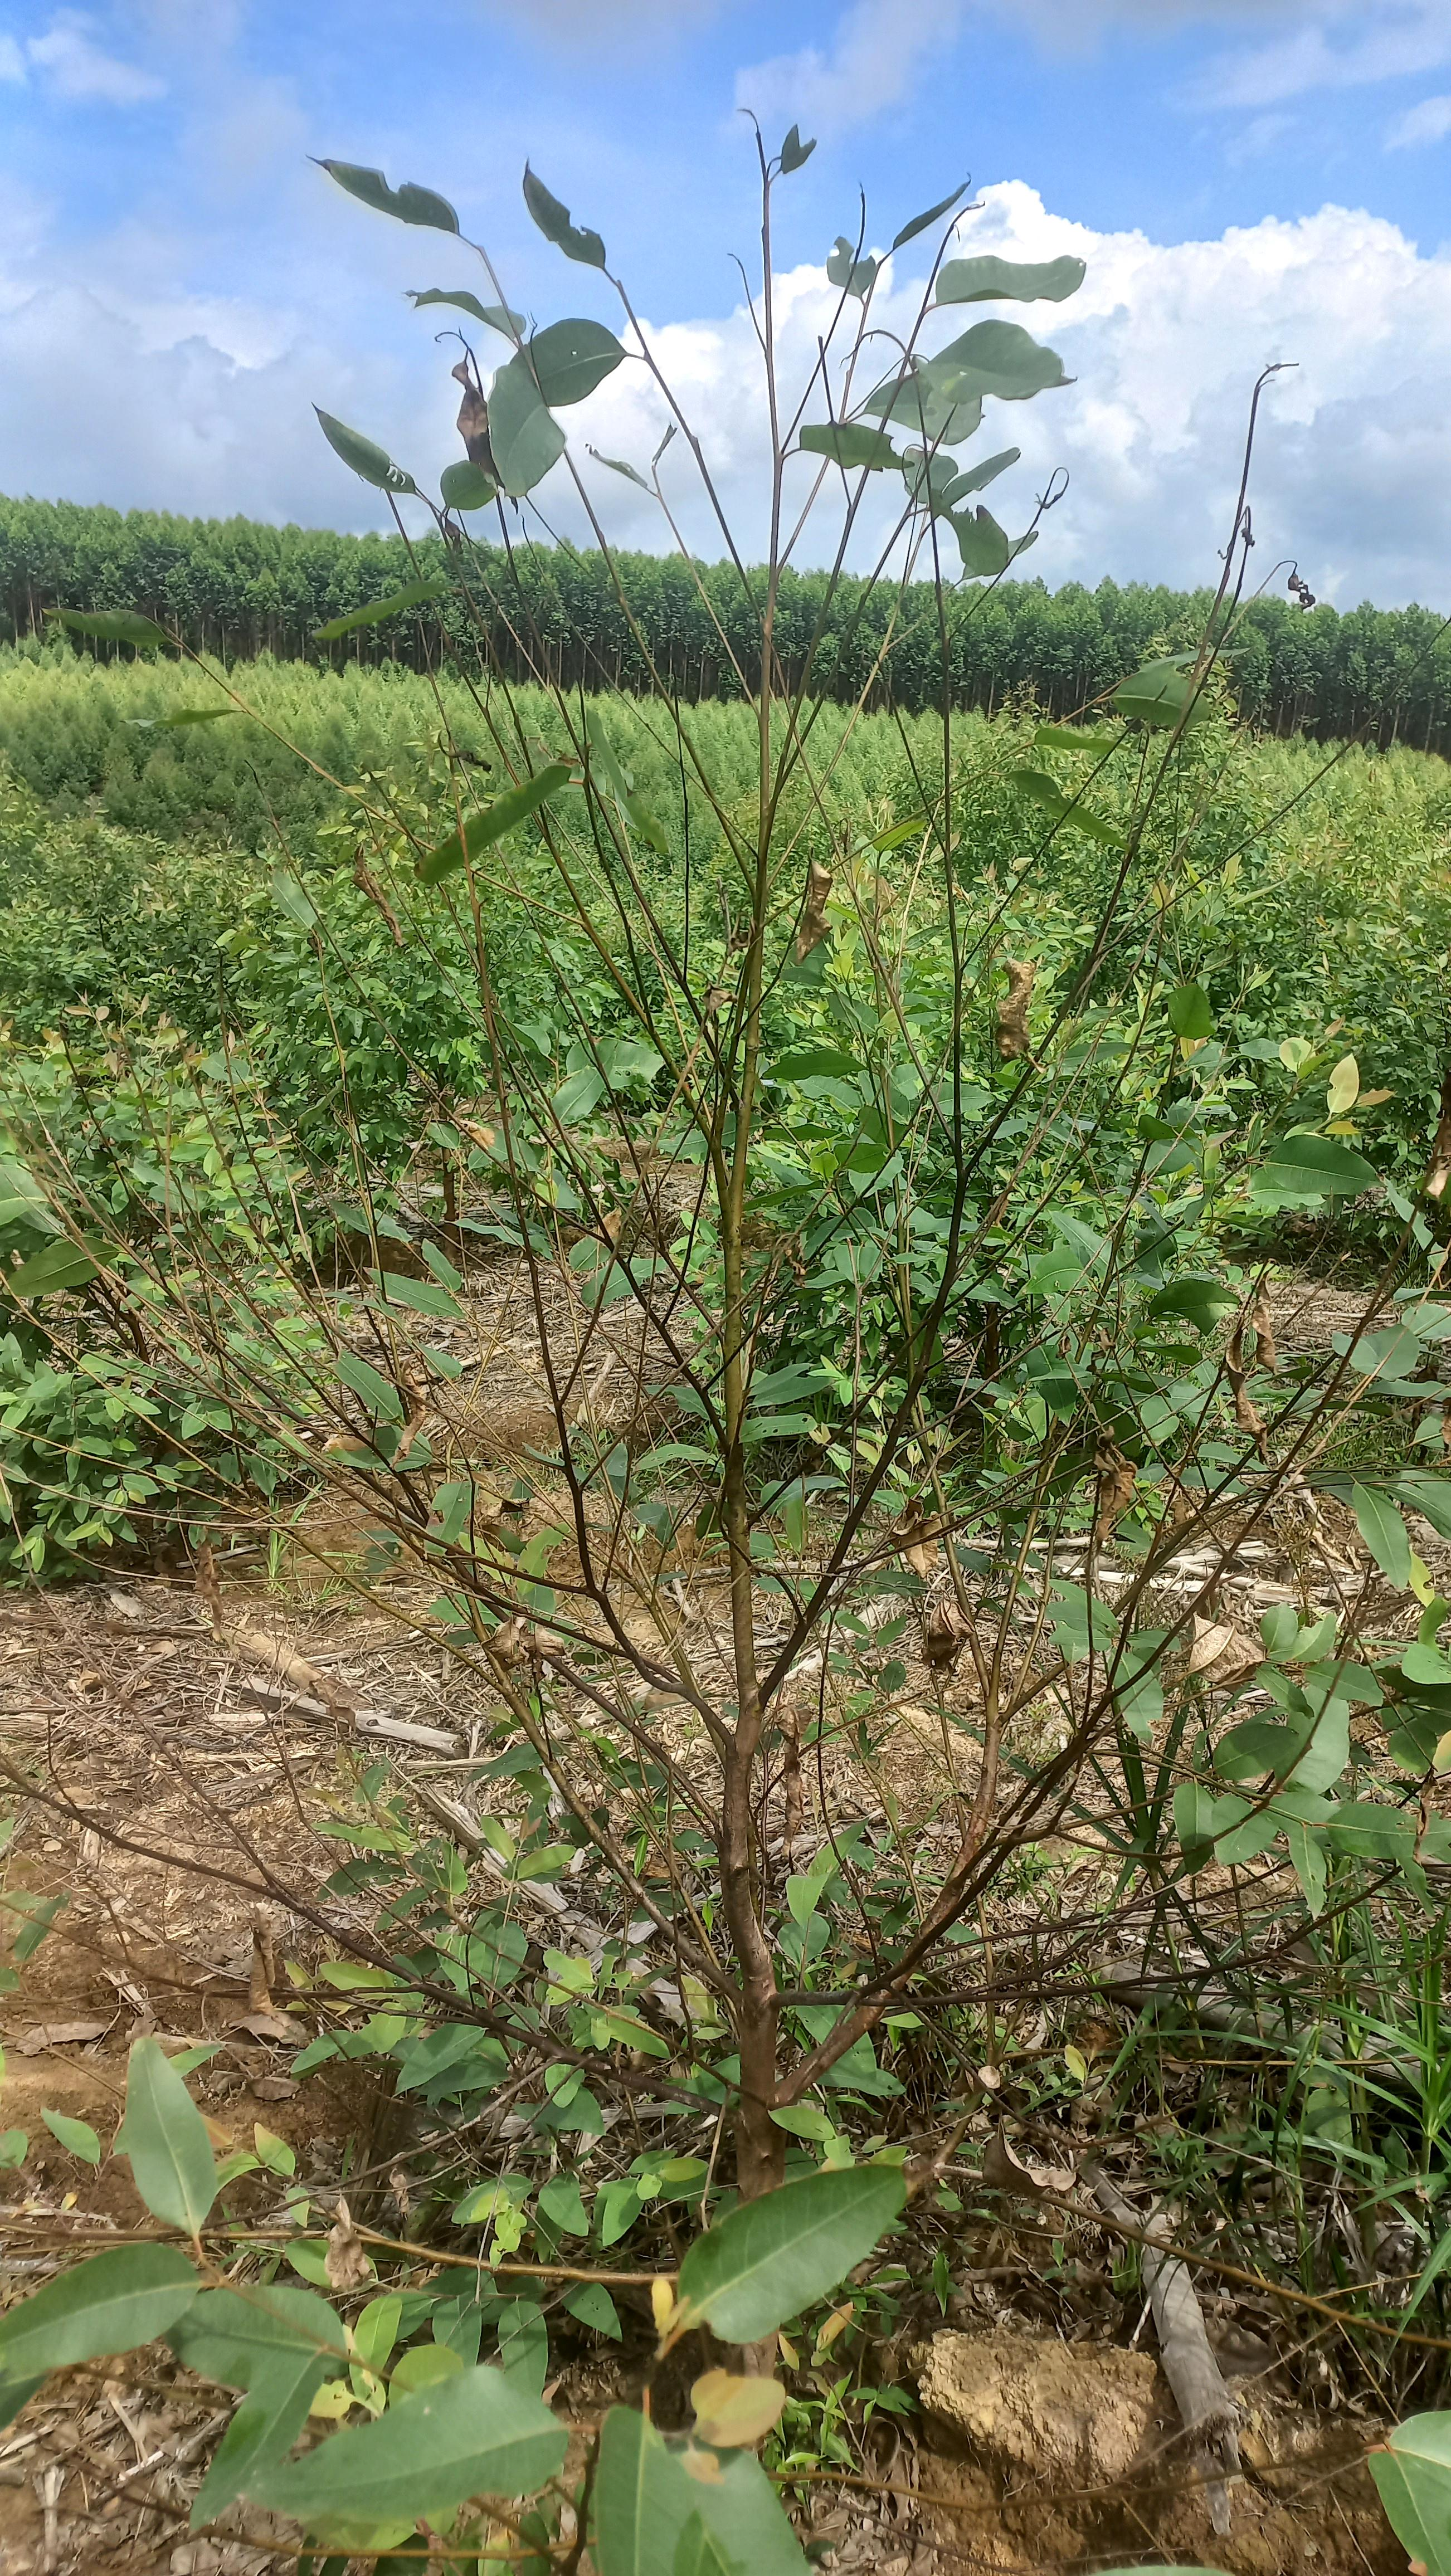Helopeltis-Withered Sprout: (434, 331, 524, 506), (980, 945, 1079, 1088), (193, 1530, 244, 1649), (345, 844, 402, 948), (741, 99, 816, 177), (795, 851, 839, 973), (887, 1495, 941, 1583), (593, 1185, 651, 1260), (1253, 1272, 1292, 1375), (922, 1598, 966, 1677), (494, 1614, 536, 1690), (1214, 1336, 1248, 1428), (1028, 465, 1076, 513), (1223, 504, 1262, 543), (1290, 563, 1318, 616)
